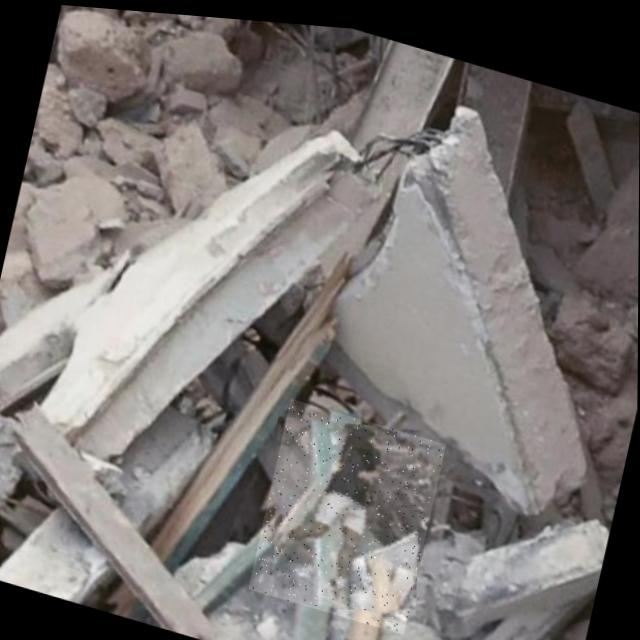Person in Rubble: (248, 391, 446, 630)
